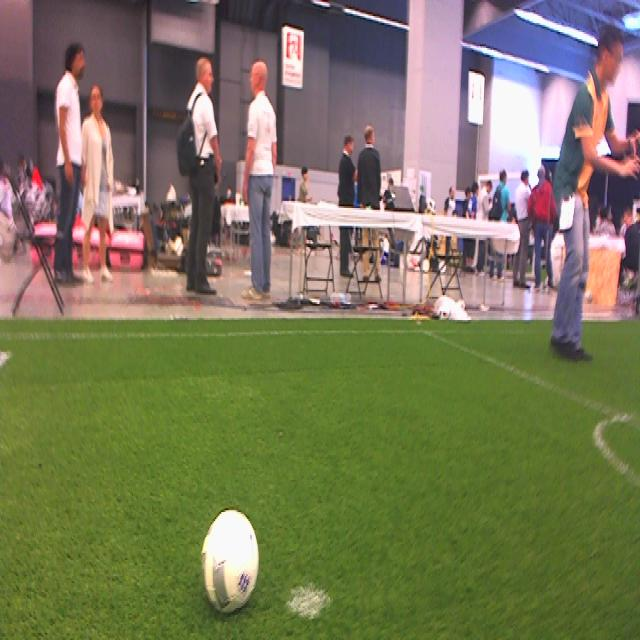ball: (201, 508, 259, 614)
